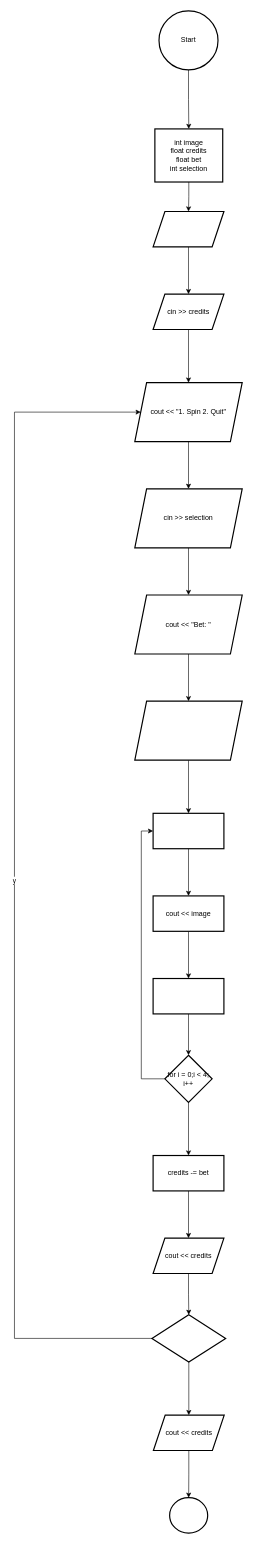
This 253x1543 diagram has some shape labels left out. Each missing label, with the centre of its shape:
cin bet: pixel 188 730
cout << "Credits: ": pixel 188 229
credits += (4- image) * 25: pixel 188 996
end: pixel 188 1515
image = rand() % 4: pixel 188 830
while credits > 0 or selection == 1: pixel 188 1338
